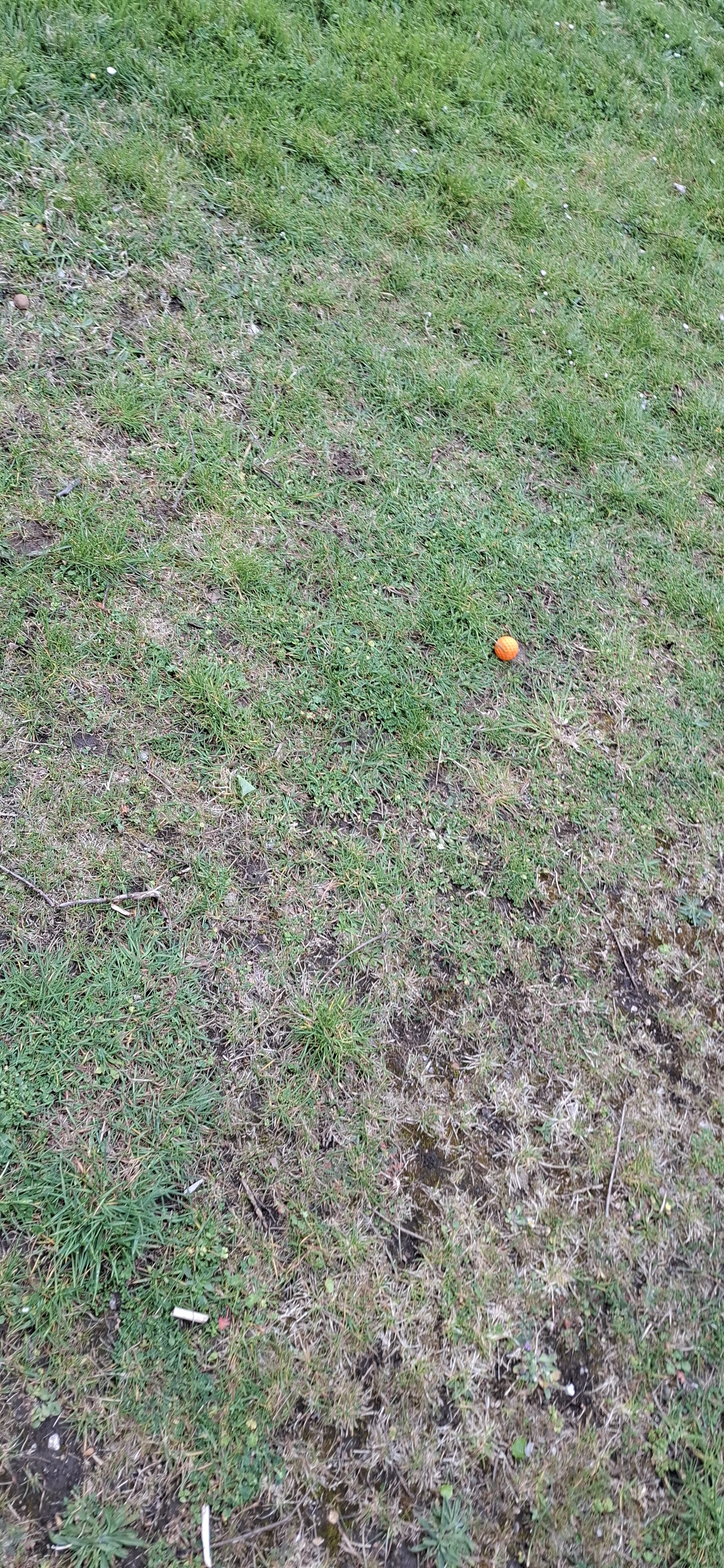ball: (294, 445, 305, 497)
